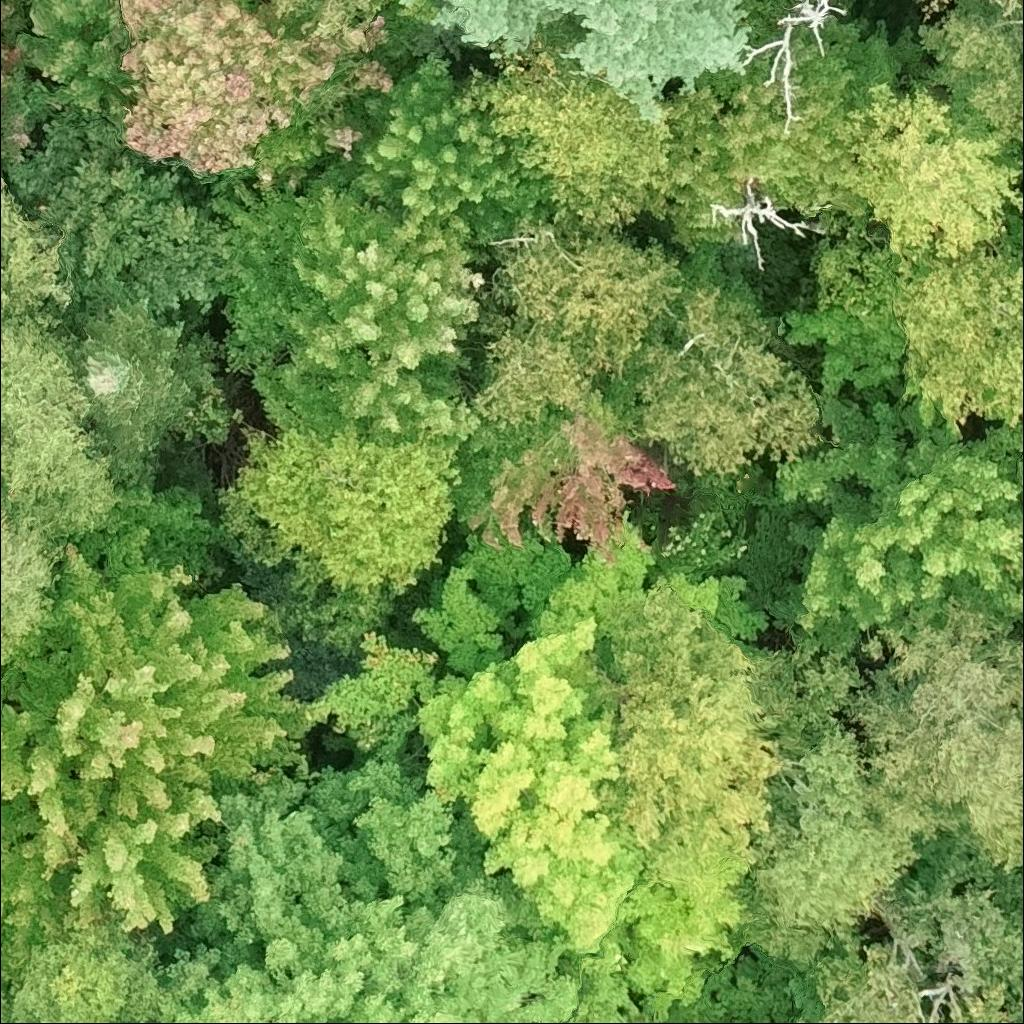crown: (407, 507, 771, 1019), (0, 523, 317, 1001), (155, 758, 576, 1023), (557, 581, 813, 909), (209, 159, 496, 448), (739, 629, 912, 968), (840, 593, 1023, 907), (784, 423, 1023, 656), (215, 425, 463, 644), (603, 244, 826, 484), (117, 0, 396, 184), (473, 213, 686, 427), (661, 39, 868, 255), (332, 52, 552, 243), (413, 0, 756, 122), (450, 388, 680, 565), (458, 42, 674, 230), (831, 77, 1023, 274), (41, 145, 226, 319), (0, 309, 137, 543), (62, 295, 222, 486), (892, 241, 1023, 429), (4, 910, 163, 1023), (918, 0, 1023, 148), (740, 0, 847, 135), (16, 0, 131, 116), (0, 479, 68, 672), (933, 881, 1023, 1023), (708, 178, 832, 272), (0, 173, 77, 324), (794, 932, 920, 1023), (0, 0, 62, 174), (7, 121, 94, 205), (268, 0, 387, 40), (913, 0, 953, 21), (398, 0, 422, 9), (0, 999, 5, 1023), (1022, 631, 1023, 633)
